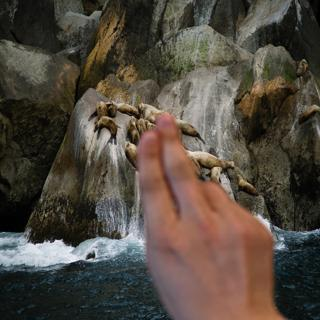DHAVE: (123, 107, 279, 320)
